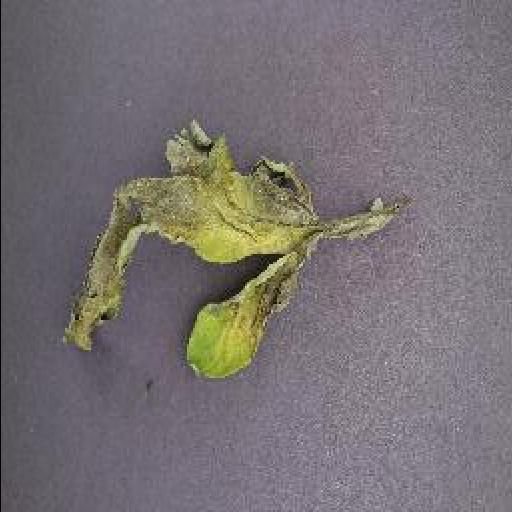disease_tomato: (62, 128, 322, 380)
